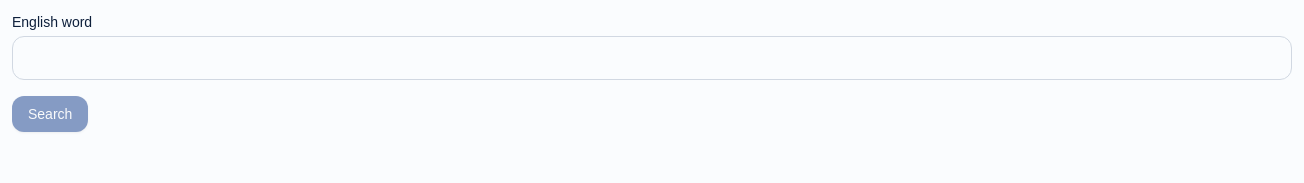
it: browser lookup hardening › shows friendly busy errors for dictionary
The image size is (1304, 183).
Later steps or results of the test are not shown.
Type "example.com" into the field at (652, 58), box top-left (12, 36), bottom-right (1292, 80)
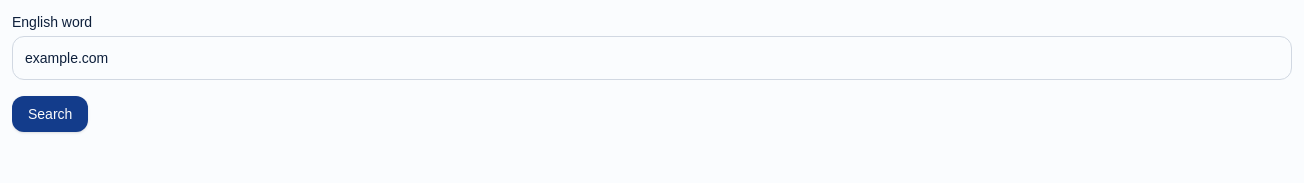
Click the button "Search" at (50, 114), box top-left (12, 96), bottom-right (88, 132)
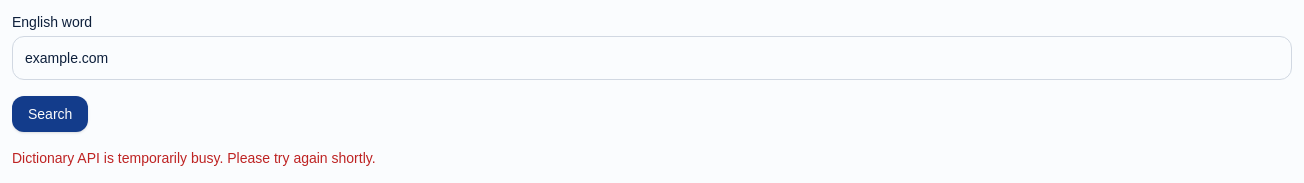
Now the message reads "Dictionary API is temporarily busy. Please try again shortly.", box top-left (12, 150), bottom-right (376, 166)
